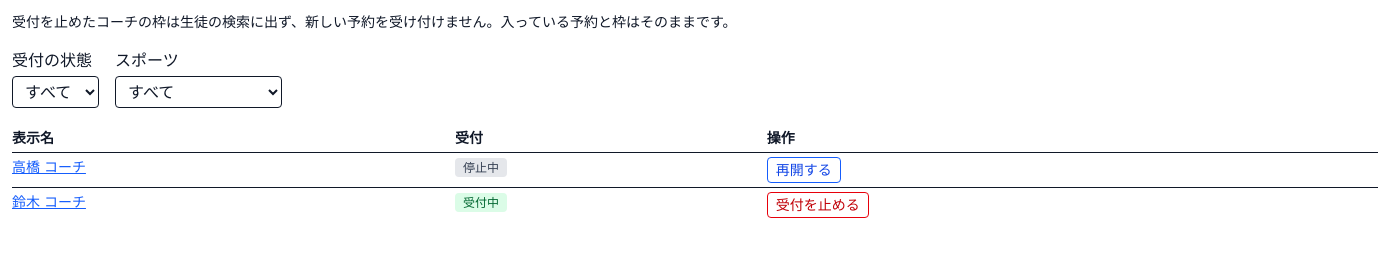
it: 本部のコーチの受付 › 409 はサーバーの ErrorCode の文言を出し、一覧を今の状態に取り直す
The image size is (1378, 275).
Click the button "受付を止める": click(818, 205) [767, 192, 869, 218]
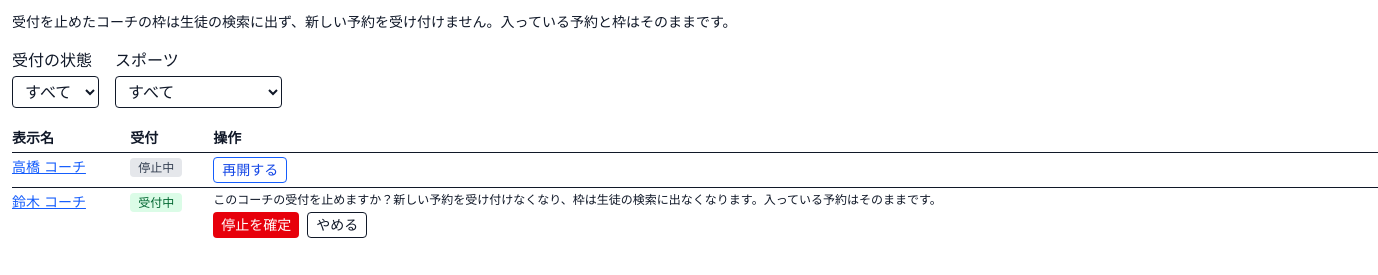
Click the button "停止を確定": click(256, 225) [213, 212, 299, 238]
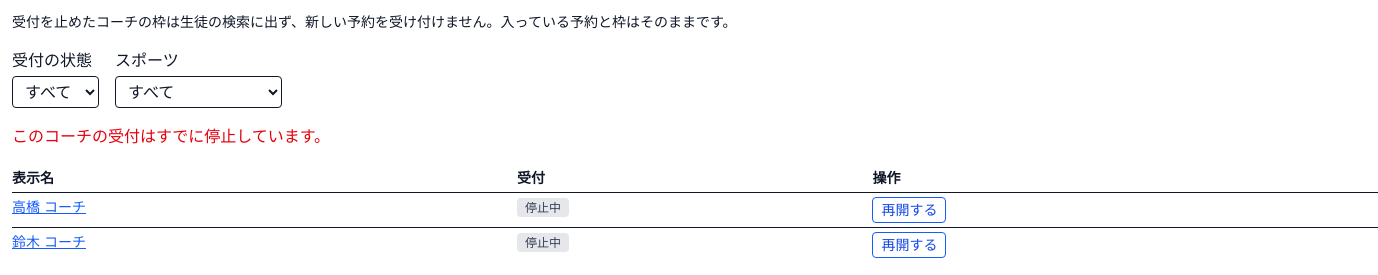
Expected: the message reads "このコーチの受付はすでに停止しています。", [12, 126, 330, 146]
Expected: the button "再開する" in the row of "鈴木 コーチ" is shown, [872, 232, 946, 258]
